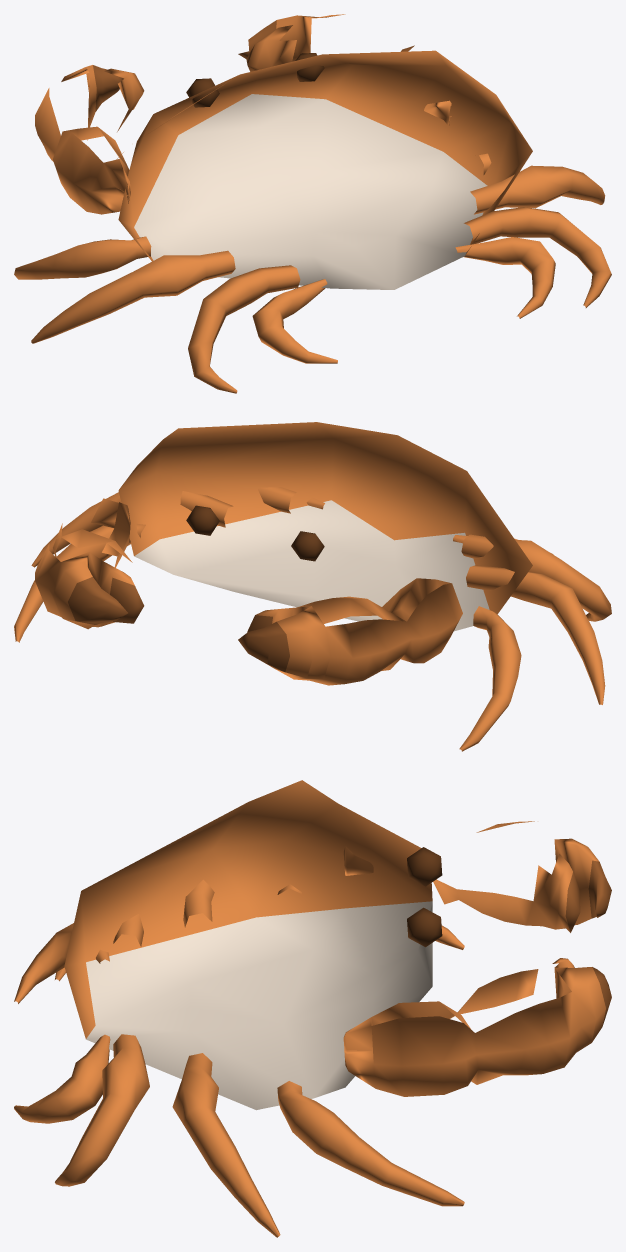
File: crab.glb
3 renders of one model, top to bottom at view 1: azimuth 30°, elevation 25°; view 2: azimuth 150°, elevation 25°; view 3: azimuth 270°, elevation 25°, orthographic. The views are drawn at different scales.
Parts seen in each view (by area): view 1: Crab.1; view 2: Crab.1; view 3: Crab.1.
Boxes of the visible parts, x1,y1,x2,y2 form: Crab.1: (14,14,611,393); Crab.1: (14,422,611,751); Crab.1: (14,780,611,1237).
Bounding box in the file's own units: 7.8 × 2.69 × 5.96.
